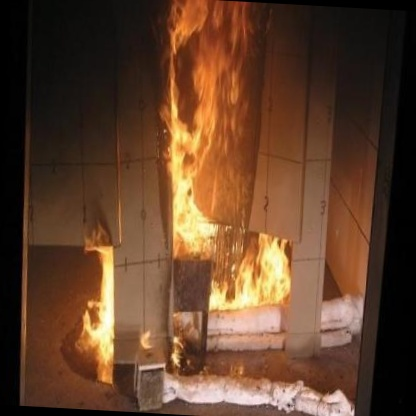fire: (121, 0, 338, 334), (73, 196, 161, 395)
